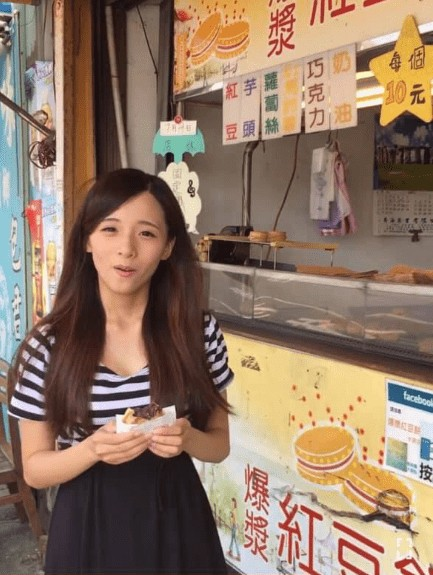people: (34, 168, 222, 572)
